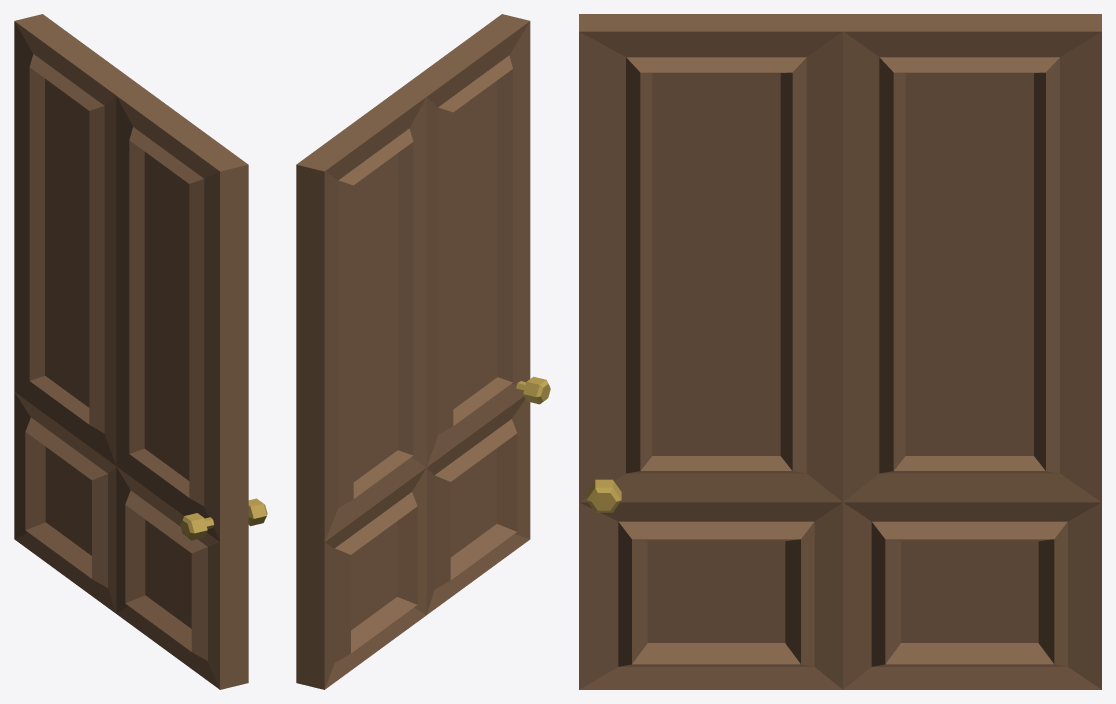
The model's file is BackhouseDoor.fbx.
3 renders of one model, left to right at view 1: azimuth 30°, elevation 25°; view 2: azimuth 150°, elevation 25°; view 3: azimuth 270°, elevation 25°, orthographic. The views are drawn at different scales.
Parts seen in each view (by area): view 1: polySurface166; view 2: polySurface166; view 3: polySurface166.
Part boxes in pixels (x1,y1,x2,y2): polySurface166: (14,14,267,689); polySurface166: (296,14,550,689); polySurface166: (579,14,1101,689).
Size of the model in its own units: 0.1955 by 1.25 by 0.8983.
